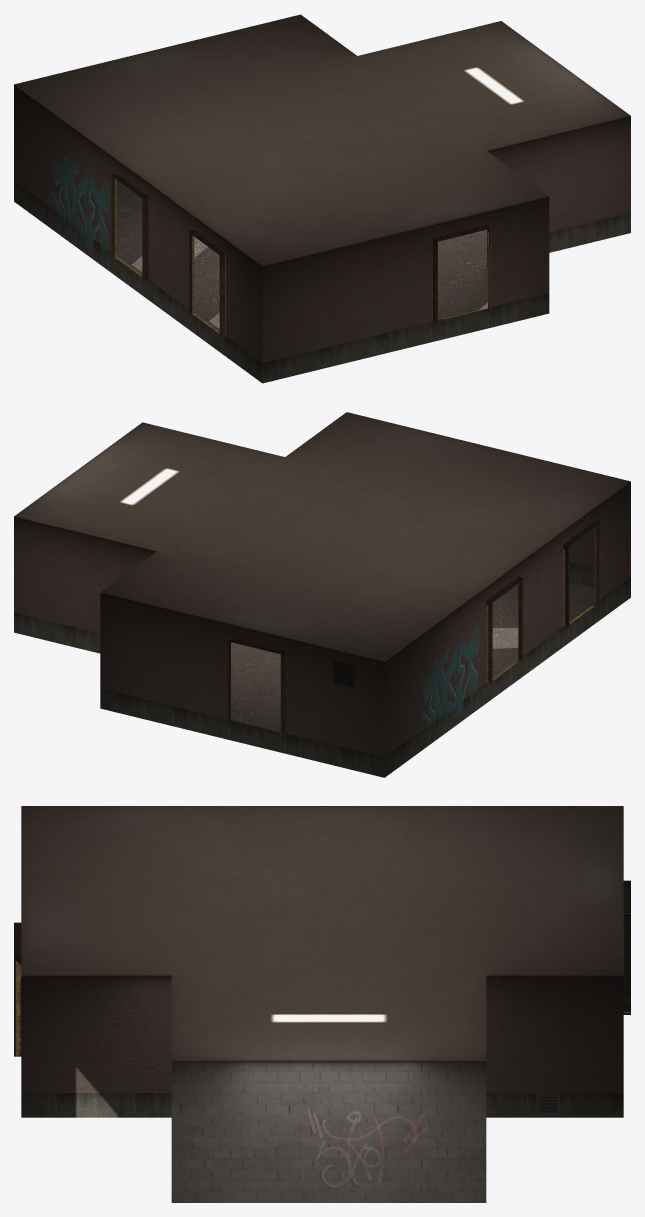
The model's file is abandoned_brick.glb.
The picture shows the model from 3 angles, top to bottom: view 1: azimuth 30°, elevation 25°; view 2: azimuth 150°, elevation 25°; view 3: azimuth 270°, elevation 25°; orthographic projection. The views are drawn at different scales.
Parts seen in each view (by area): view 1: Object_2; view 2: Object_2; view 3: Object_2.
Part boxes in pixels (box(x1,y1,x2,y2)): Object_2: box(14, 14, 630, 383); Object_2: box(14, 412, 630, 777); Object_2: box(14, 806, 630, 1202).
Size of the model in its own units: 10.75 by 2.76 by 10.88.
1 material, 1 textured.
